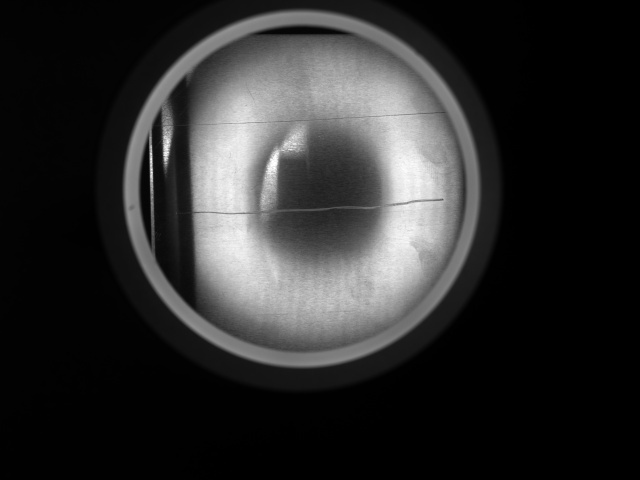ca_shang: (177, 197, 453, 219), (151, 109, 447, 127)
